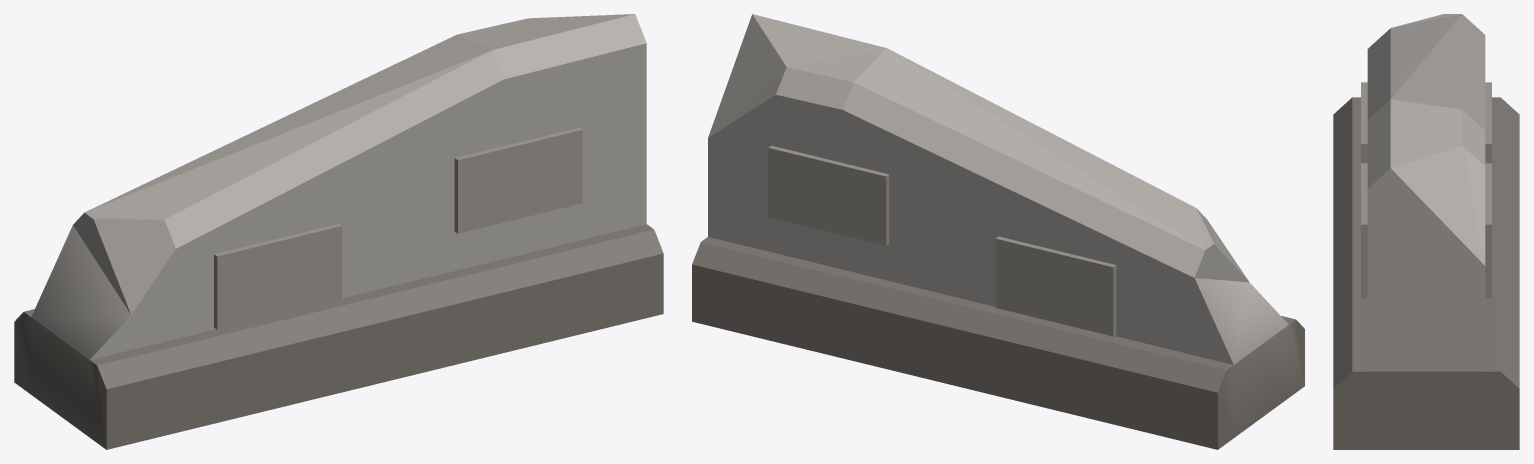
Rendered from Wall 09.FBX.
3 renders of one model, left to right at view 1: azimuth 30°, elevation 25°; view 2: azimuth 150°, elevation 25°; view 3: azimuth 270°, elevation 25°, orthographic. The views are drawn at different scales.
Parts seen in each view (by area): view 1: Wall 09; view 2: Wall 09; view 3: Wall 09.
Part boxes in pixels (x1=…): Wall 09: x1=14, y1=14, x2=663, y2=449; Wall 09: x1=692, y1=14, x2=1304, y2=449; Wall 09: x1=1333, y1=14, x2=1519, y2=449.
Bounding box in the file's own units: 266 × 127 × 76.34.
1 material, 1 textured.
